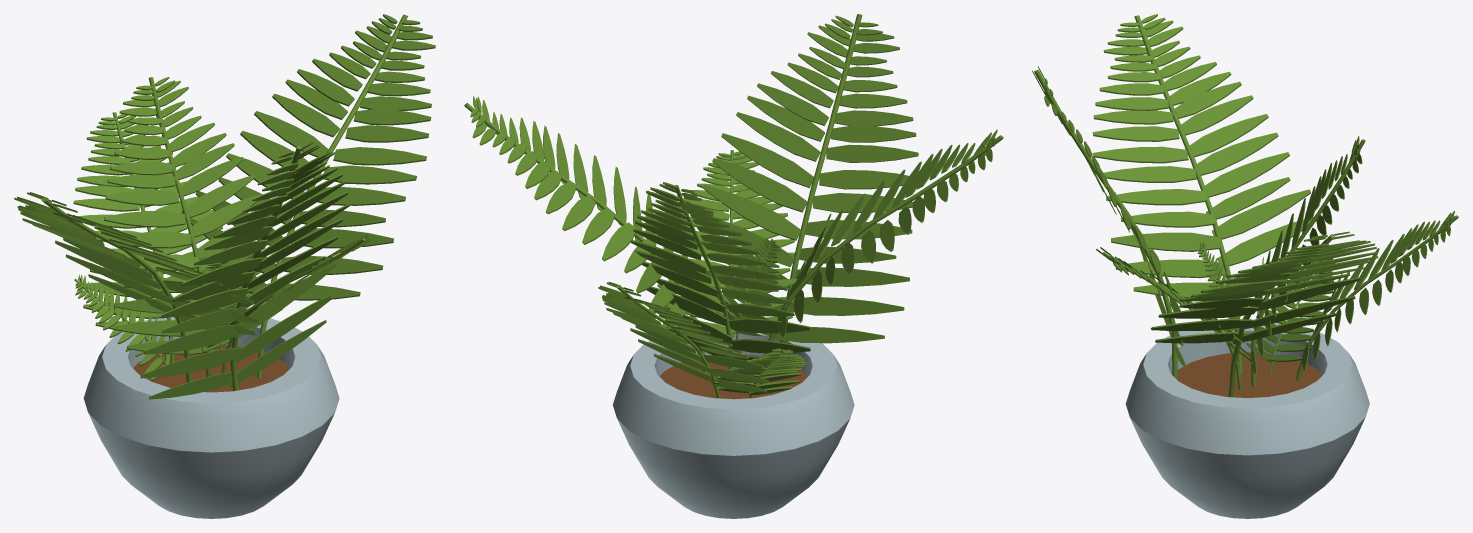
File: plant2.fbx
3 views of the same model, side by side, from view 1: azimuth 30°, elevation 25°; view 2: azimuth 150°, elevation 25°; view 3: azimuth 270°, elevation 25° (orthographic). The views are drawn at different scales.
Visible parts, largest first — view 1: Circle.007; view 2: Circle.007; view 3: Circle.007.
Part boxes in pixels (x1,y1,x2,y2): Circle.007: [14, 14, 435, 518]; Circle.007: [464, 14, 1003, 518]; Circle.007: [1032, 14, 1458, 518].
Bounding box in the file's own units: 1096 × 943 × 882.
